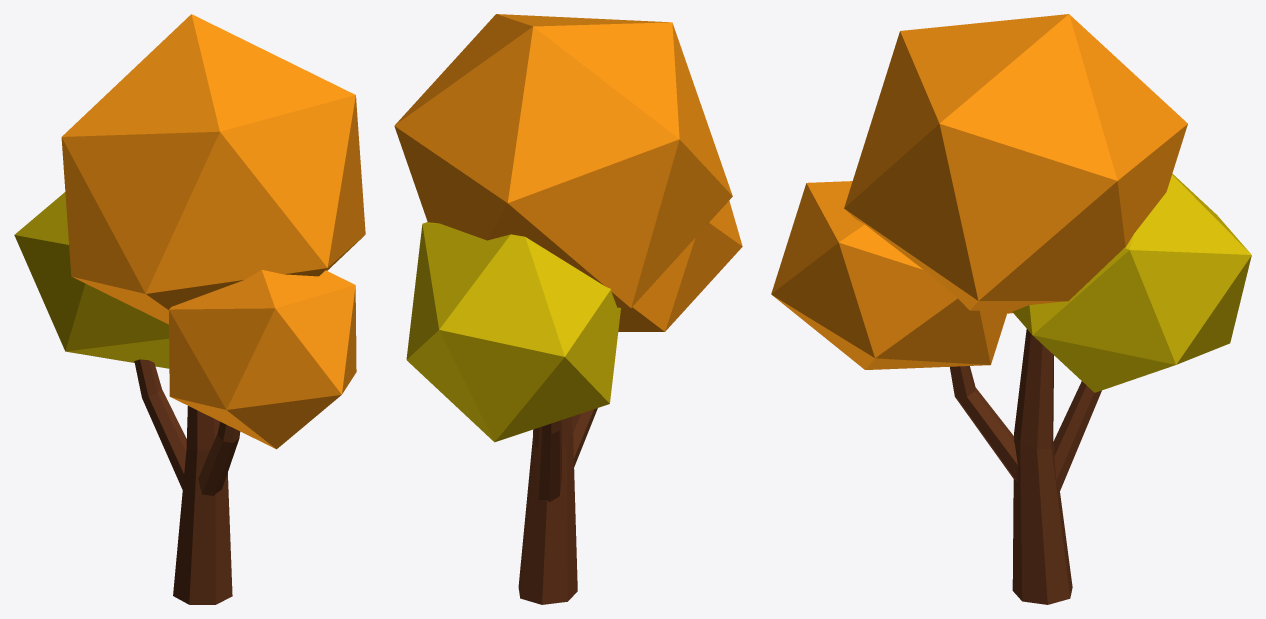
File: tree3.glb
3 renders of one model, left to right at view 1: azimuth 30°, elevation 25°; view 2: azimuth 150°, elevation 25°; view 3: azimuth 270°, elevation 25°, orthographic.
Parts seen in each view (by area): view 1: Cylinder.010; view 2: Cylinder.010; view 3: Cylinder.010.
Boxes of the visible parts, x1,y1,x2,y2 form: Cylinder.010: (14,14,365,604); Cylinder.010: (394,14,742,604); Cylinder.010: (771,14,1251,604).
Bounding box in the file's own units: 3.14 × 6.4 × 4.82.
